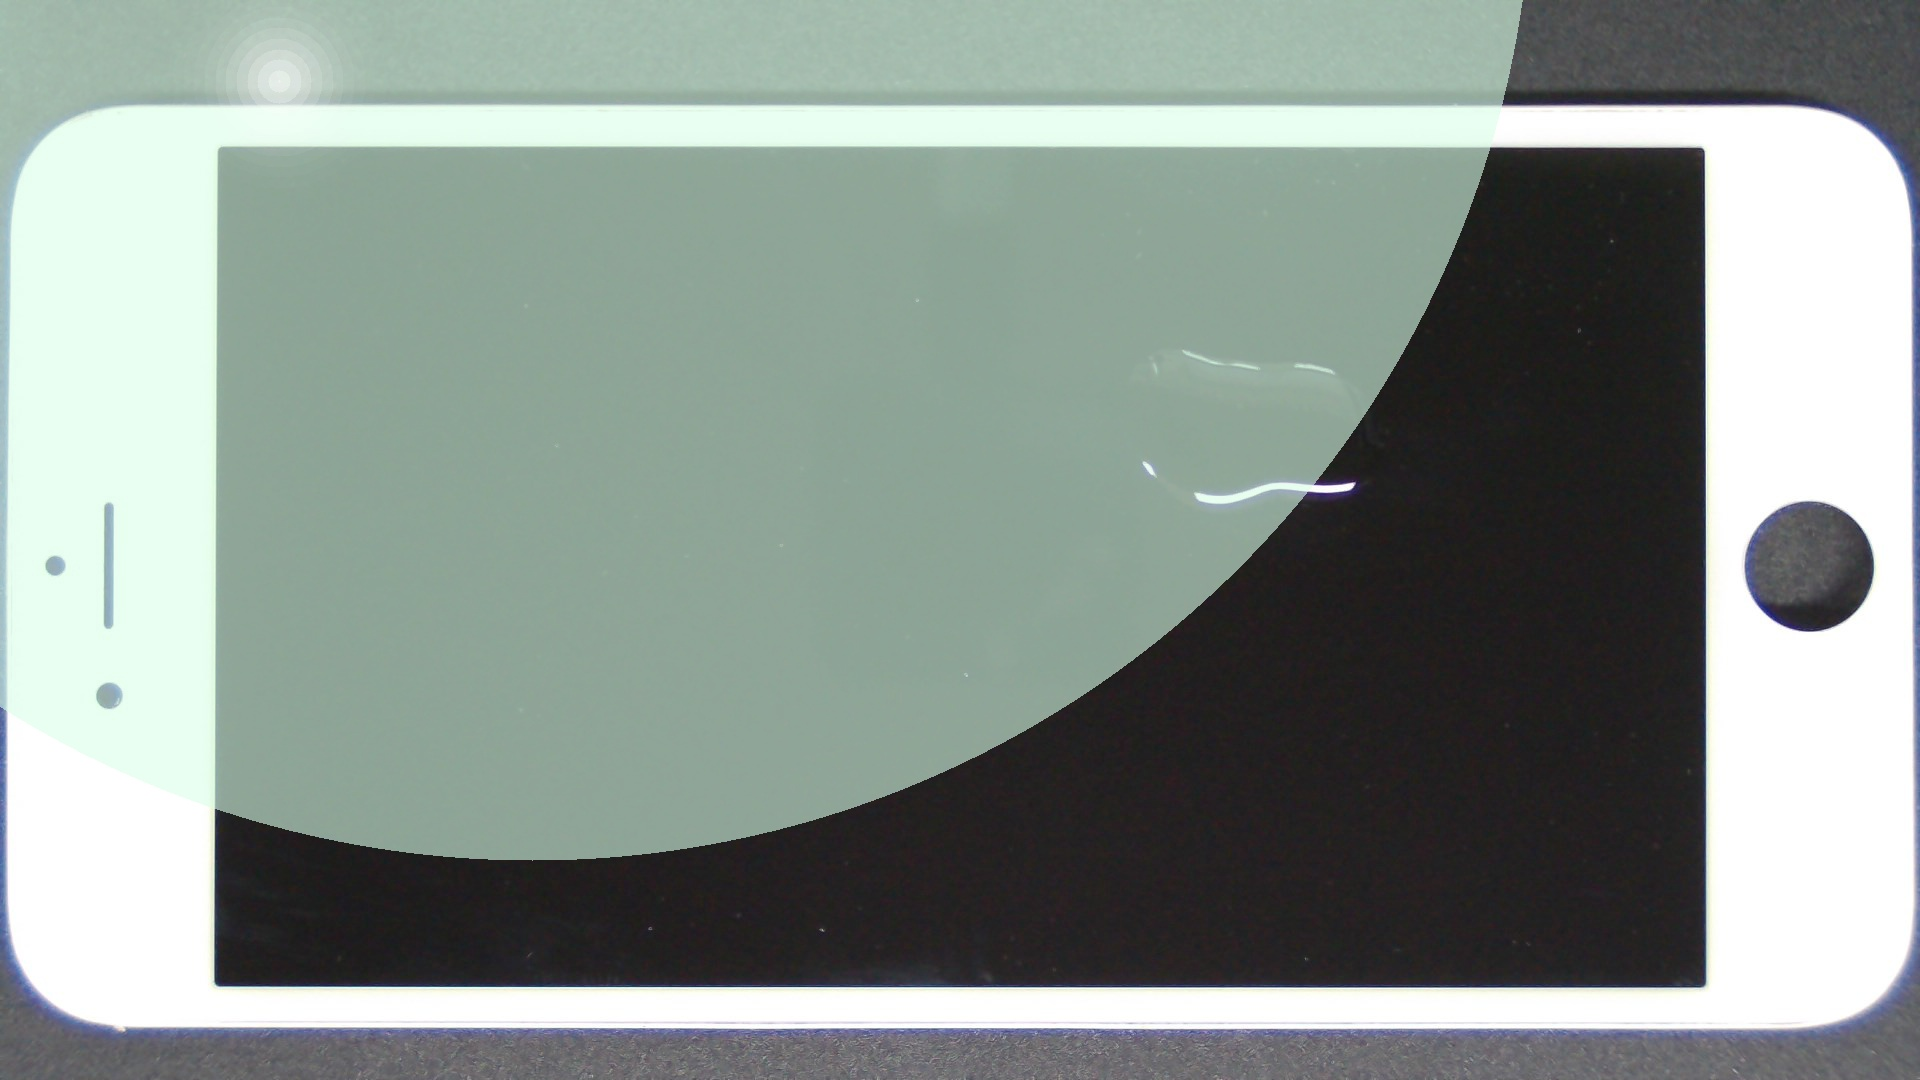oil: (588, 173, 1763, 520)
